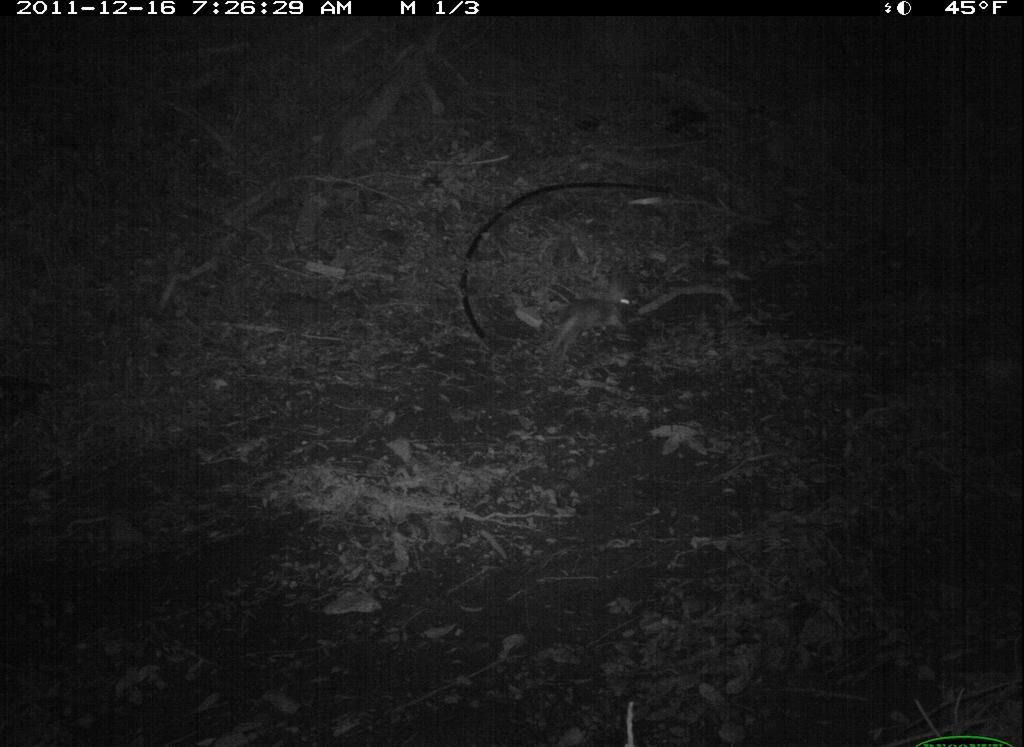rabbit: (533, 265, 647, 358)
